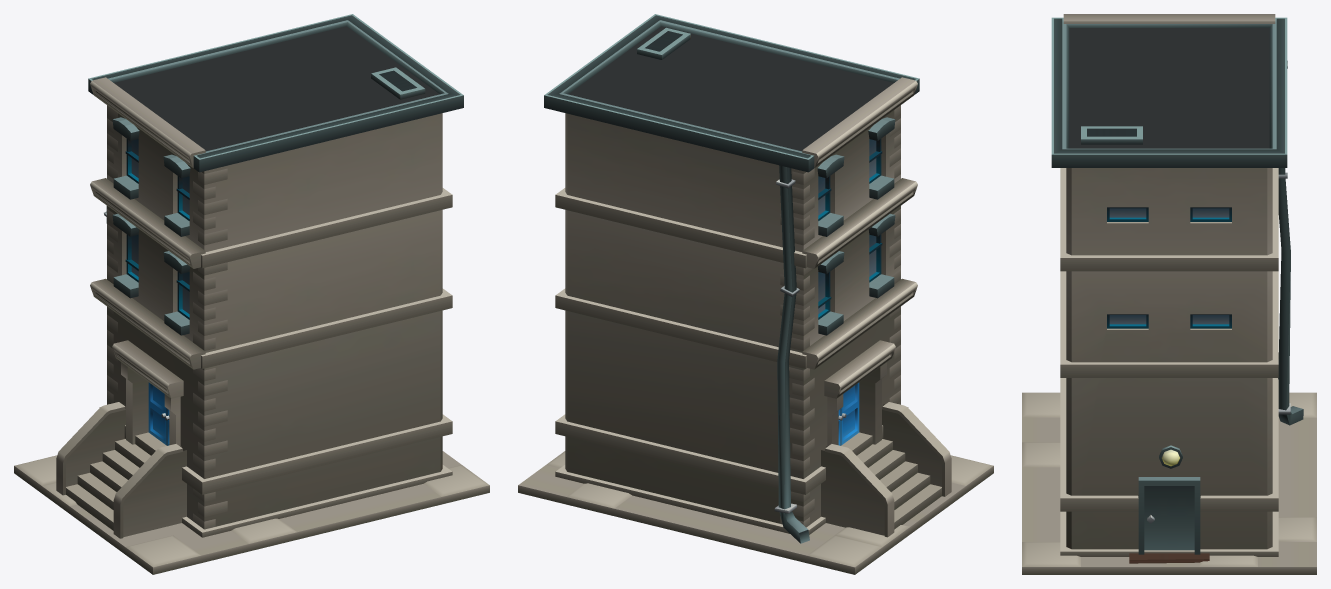
The model's file is Building_5D.fbx.
3 renders of one model, left to right at view 1: azimuth 30°, elevation 25°; view 2: azimuth 150°, elevation 25°; view 3: azimuth 270°, elevation 25°, orthographic. The views are drawn at different scales.
Parts seen in each view (by area): view 1: Building_5D; view 2: Building_5D; view 3: Building_5D.
Part boxes in pixels (x1,y1,x2,y2): Building_5D: (14, 14, 489, 574); Building_5D: (518, 14, 993, 574); Building_5D: (1022, 14, 1316, 574).
Size of the model in its own units: 427 by 476 by 305.
